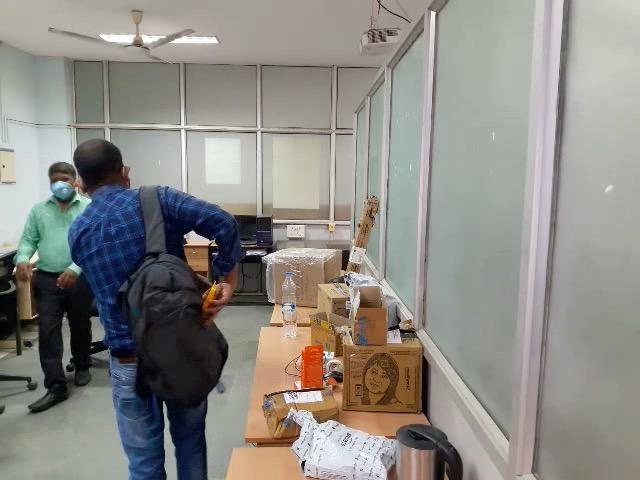shoplifting: (27, 196, 256, 480)
